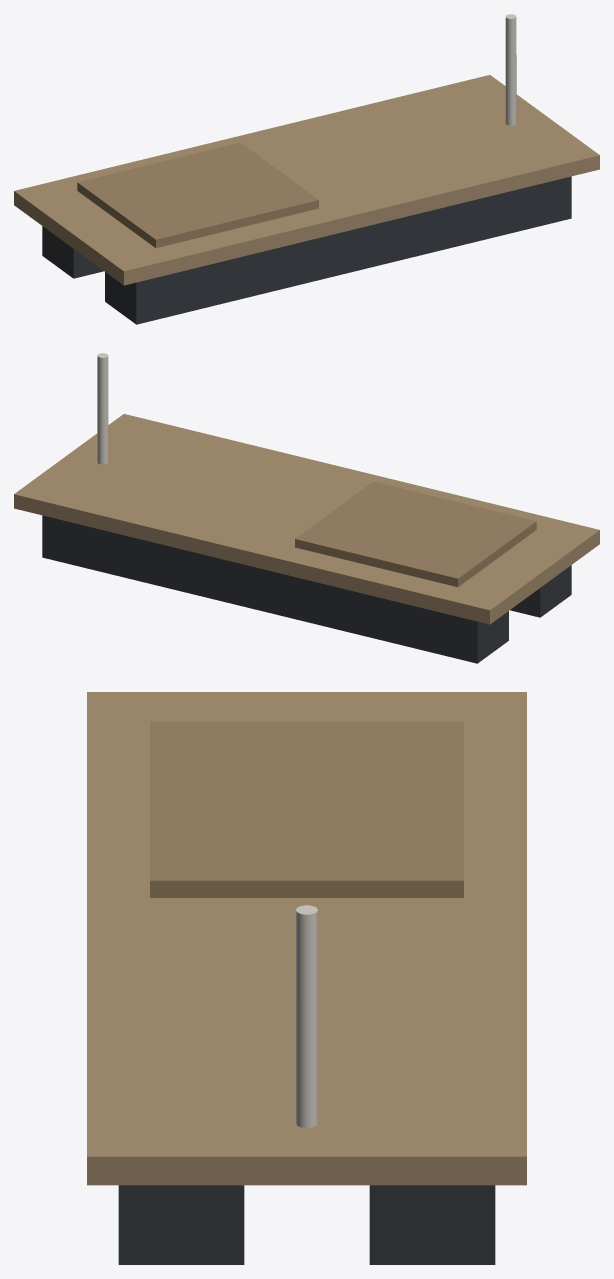
The model's file is a05-stakeboat-platform.glb.
The picture shows the model from 3 angles, top to bottom: view 1: azimuth 30°, elevation 25°; view 2: azimuth 150°, elevation 25°; view 3: azimuth 270°, elevation 25°; orthographic projection. The views are drawn at different scales.
Visible parts, largest first — view 1: part0, part1, part3, part2, part4; view 2: part0, part2, part3, part1, part4; view 3: part0, part3, part1, part2, part4.
Part boxes in pixels (x1,y1,x2,y2): part0: [14, 75, 599, 285]; part1: [105, 176, 571, 324]; part3: [77, 142, 318, 247]; part2: [42, 226, 103, 278]; part4: [505, 14, 516, 125]; part0: [14, 414, 599, 624]; part2: [42, 515, 508, 663]; part3: [295, 481, 536, 586]; part1: [510, 565, 571, 617]; part4: [97, 353, 108, 464]; part0: [87, 692, 526, 1185]; part3: [150, 721, 463, 897]; part1: [118, 1185, 244, 1264]; part2: [369, 1185, 495, 1264]; part4: [296, 905, 317, 1127].
Size of the model in its own units: 3500 by 1200 by 1400.
